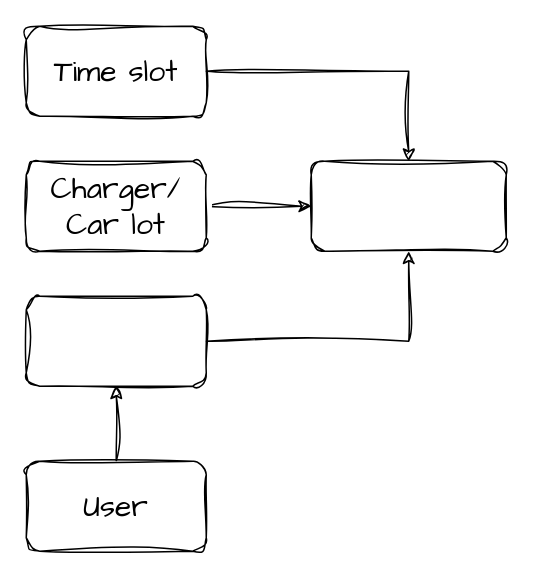
Some shapes in this 533 by 578 pixel diagram are drawn without their labels. The box of each missing label's shape, as (x1, y1, x2, y2) in pixels:
Car: (25, 295, 206, 386)
Reservation: (310, 160, 506, 251)
